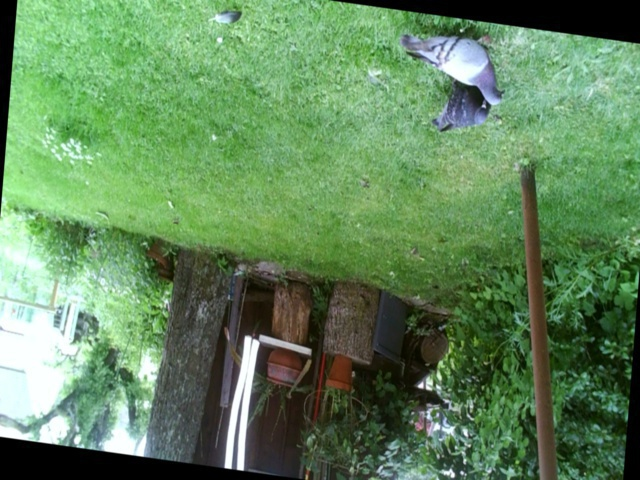Pigeon: (399, 31, 511, 108), (426, 77, 495, 132)
